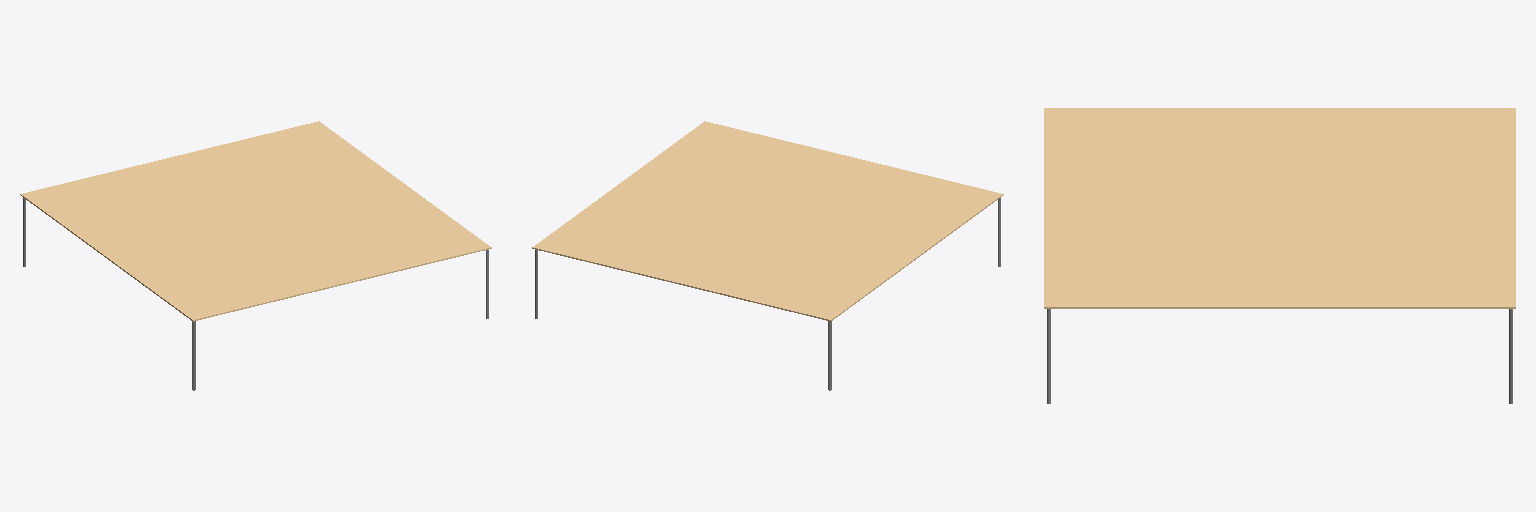
robot.urdf — box:
<?xml version="1.0" ?>
<robot name="box">

    <material name="panda_white">
        <color rgba="1. 0.87 0.68 1."/>
    </material>

    <material name="metal">
        <color rgba="0.6 0.6 0.6 1."/>
    </material>

    <material name="orangered">
        <color rgba="1 0.34 0.2 0.5"/>
    </material>


    <link name="link1">
        <inertial>
            <origin rpy="0 0 0" xyz="0 0 0"/>
            <mass value=".0"/>
            <inertia ixx="0" ixy="0" ixz="0" iyy="0" iyz="0" izz="0"/>
        </inertial>

        <visual>
            <origin rpy="0 0 0" xyz="0.0 0 0.25"/>
            <geometry>
                <box size="1.1 1.1 0.005"/>
            </geometry>
            <material name="panda_white"/>
        </visual>
    </link>

    <link name="link2">
        <inertial>
            <origin rpy="0 0 0" xyz="0 0 0"/>
            <mass value=".0"/>
            <inertia ixx="0" ixy="0" ixz="0" iyy="0" iyz="0" izz="0"/>
        </inertial>

        <visual>
            <origin rpy="0 0 0" xyz="0.54 0.54 0.125"/>
            <geometry>
                <cylinder radius="0.005" length="0.25"/>
            </geometry>
            <material name="metal"/>
        </visual>

        <visual>
            <origin rpy="0 0 0" xyz="0.54 -0.54 0.125"/>
            <geometry>
                <cylinder radius="0.005" length="0.25"/>
            </geometry>
            <material name="metal"/>
        </visual>

        <visual>
            <origin rpy="0 0 0" xyz="-0.54 0.54 0.125"/>
            <geometry>
                <cylinder radius="0.005" length="0.25"/>
            </geometry>
            <material name="metal"/>
        </visual>

        <visual>
            <origin rpy="0 0 0" xyz="-0.54 -0.54 0.125"/>
            <geometry>
                <cylinder radius="0.005" length="0.25"/>
            </geometry>
            <material name="metal"/>
        </visual>

    </link>
    

    <joint name="fixed_joint" type="fixed">
        <parent link="link1"/>
        <child link="link2"/>
        <origin xyz="0 0 0" rpy="0 0 0"/>
    </joint>

</robot>

--- Render facts (derived) ---
3 views of the same robot in one strip: view 1: azimuth 30°, elevation 25°; view 2: azimuth 150°, elevation 25°; view 3: azimuth 270°, elevation 25° (orthographic).
Robot: box — 2 links, 1 joints (1 fixed); root link link1; default pose: all joints at 0.
Links seen in each view (by area): view 1: link1, link2; view 2: link1, link2; view 3: link1, link2.
Link boxes in pixels (bbox=[...]): link1: bbox=[20, 121, 491, 321]; link2: bbox=[23, 198, 488, 390]; link1: bbox=[532, 121, 1003, 321]; link2: bbox=[535, 198, 1000, 390]; link1: bbox=[1044, 108, 1515, 308]; link2: bbox=[1047, 309, 1512, 403].
Size in the robot's own frame: 1.1 by 1.1 by 0.2525 metres.
Geometry: primitives only (box / cylinder / sphere), no mesh files.
